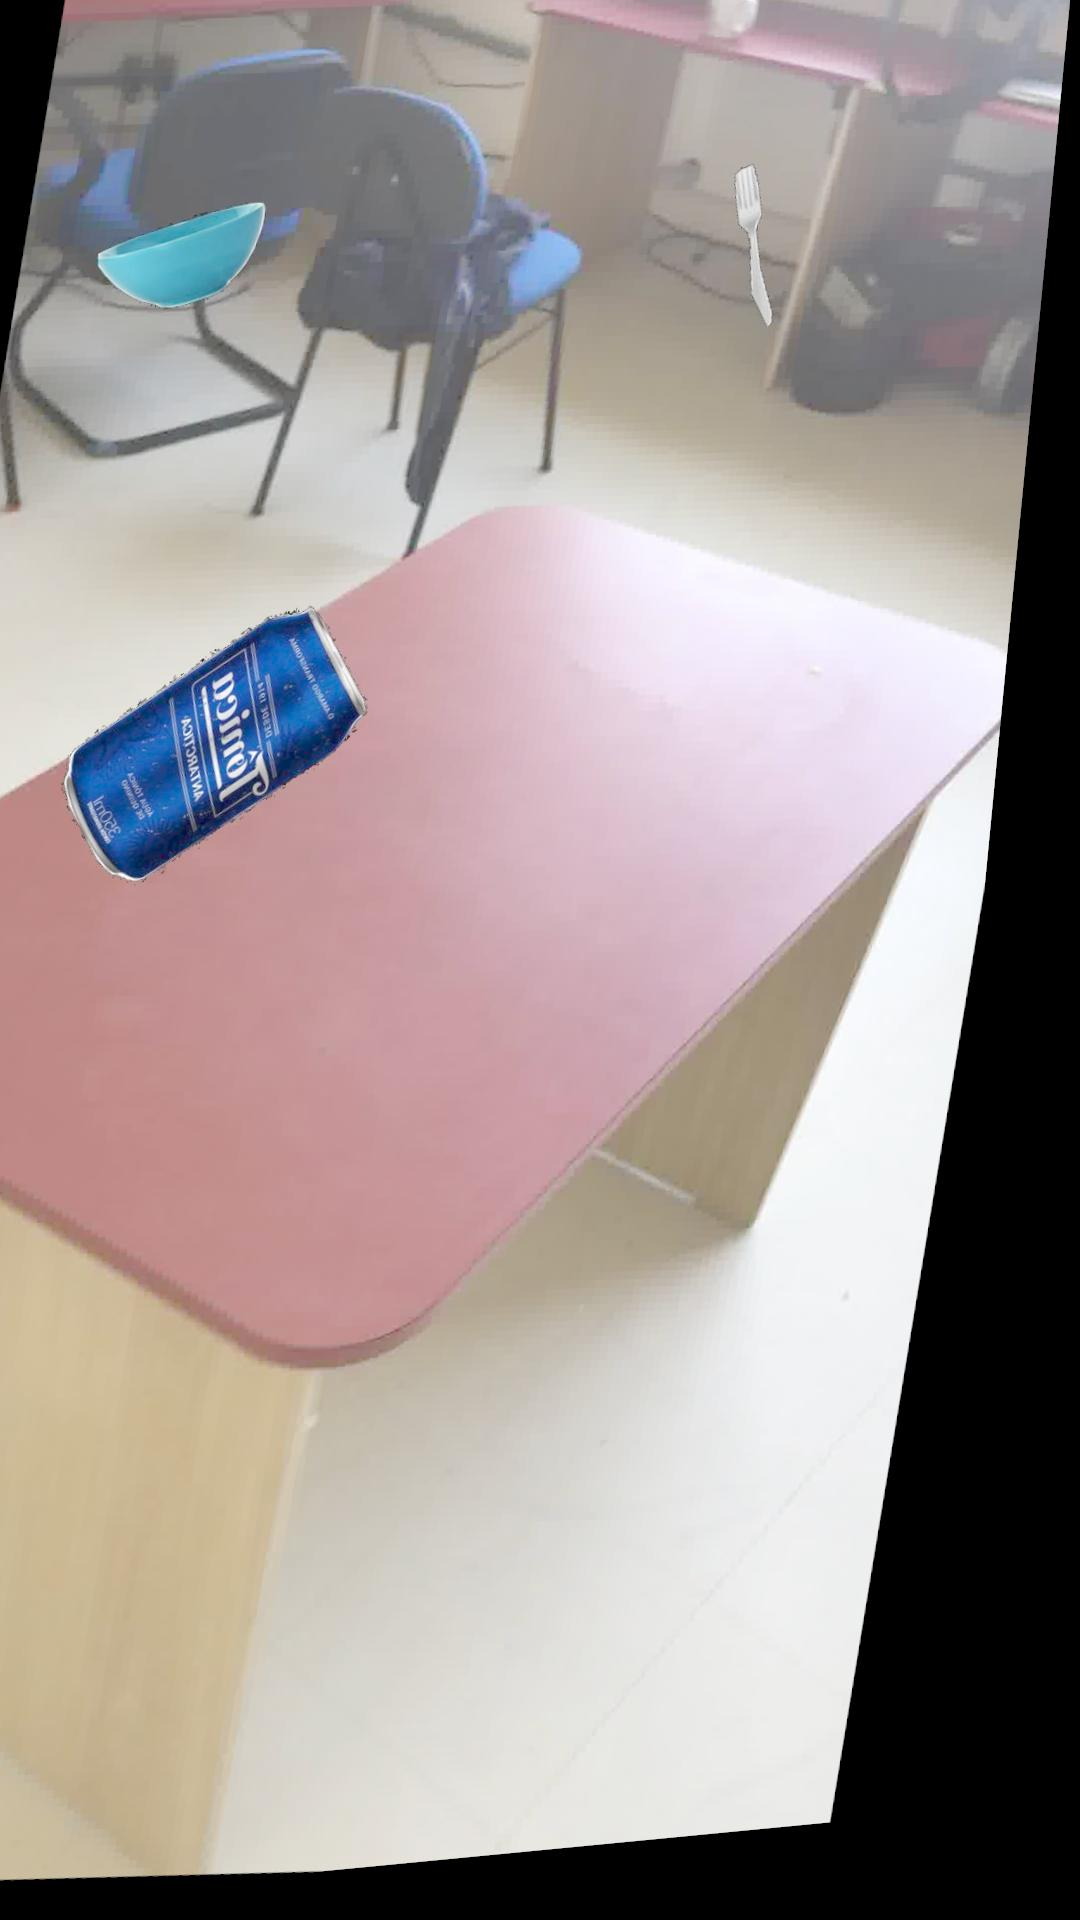bowl: (102, 207, 269, 311)
fork: (737, 178, 779, 342)
tonic: (75, 613, 380, 885)
